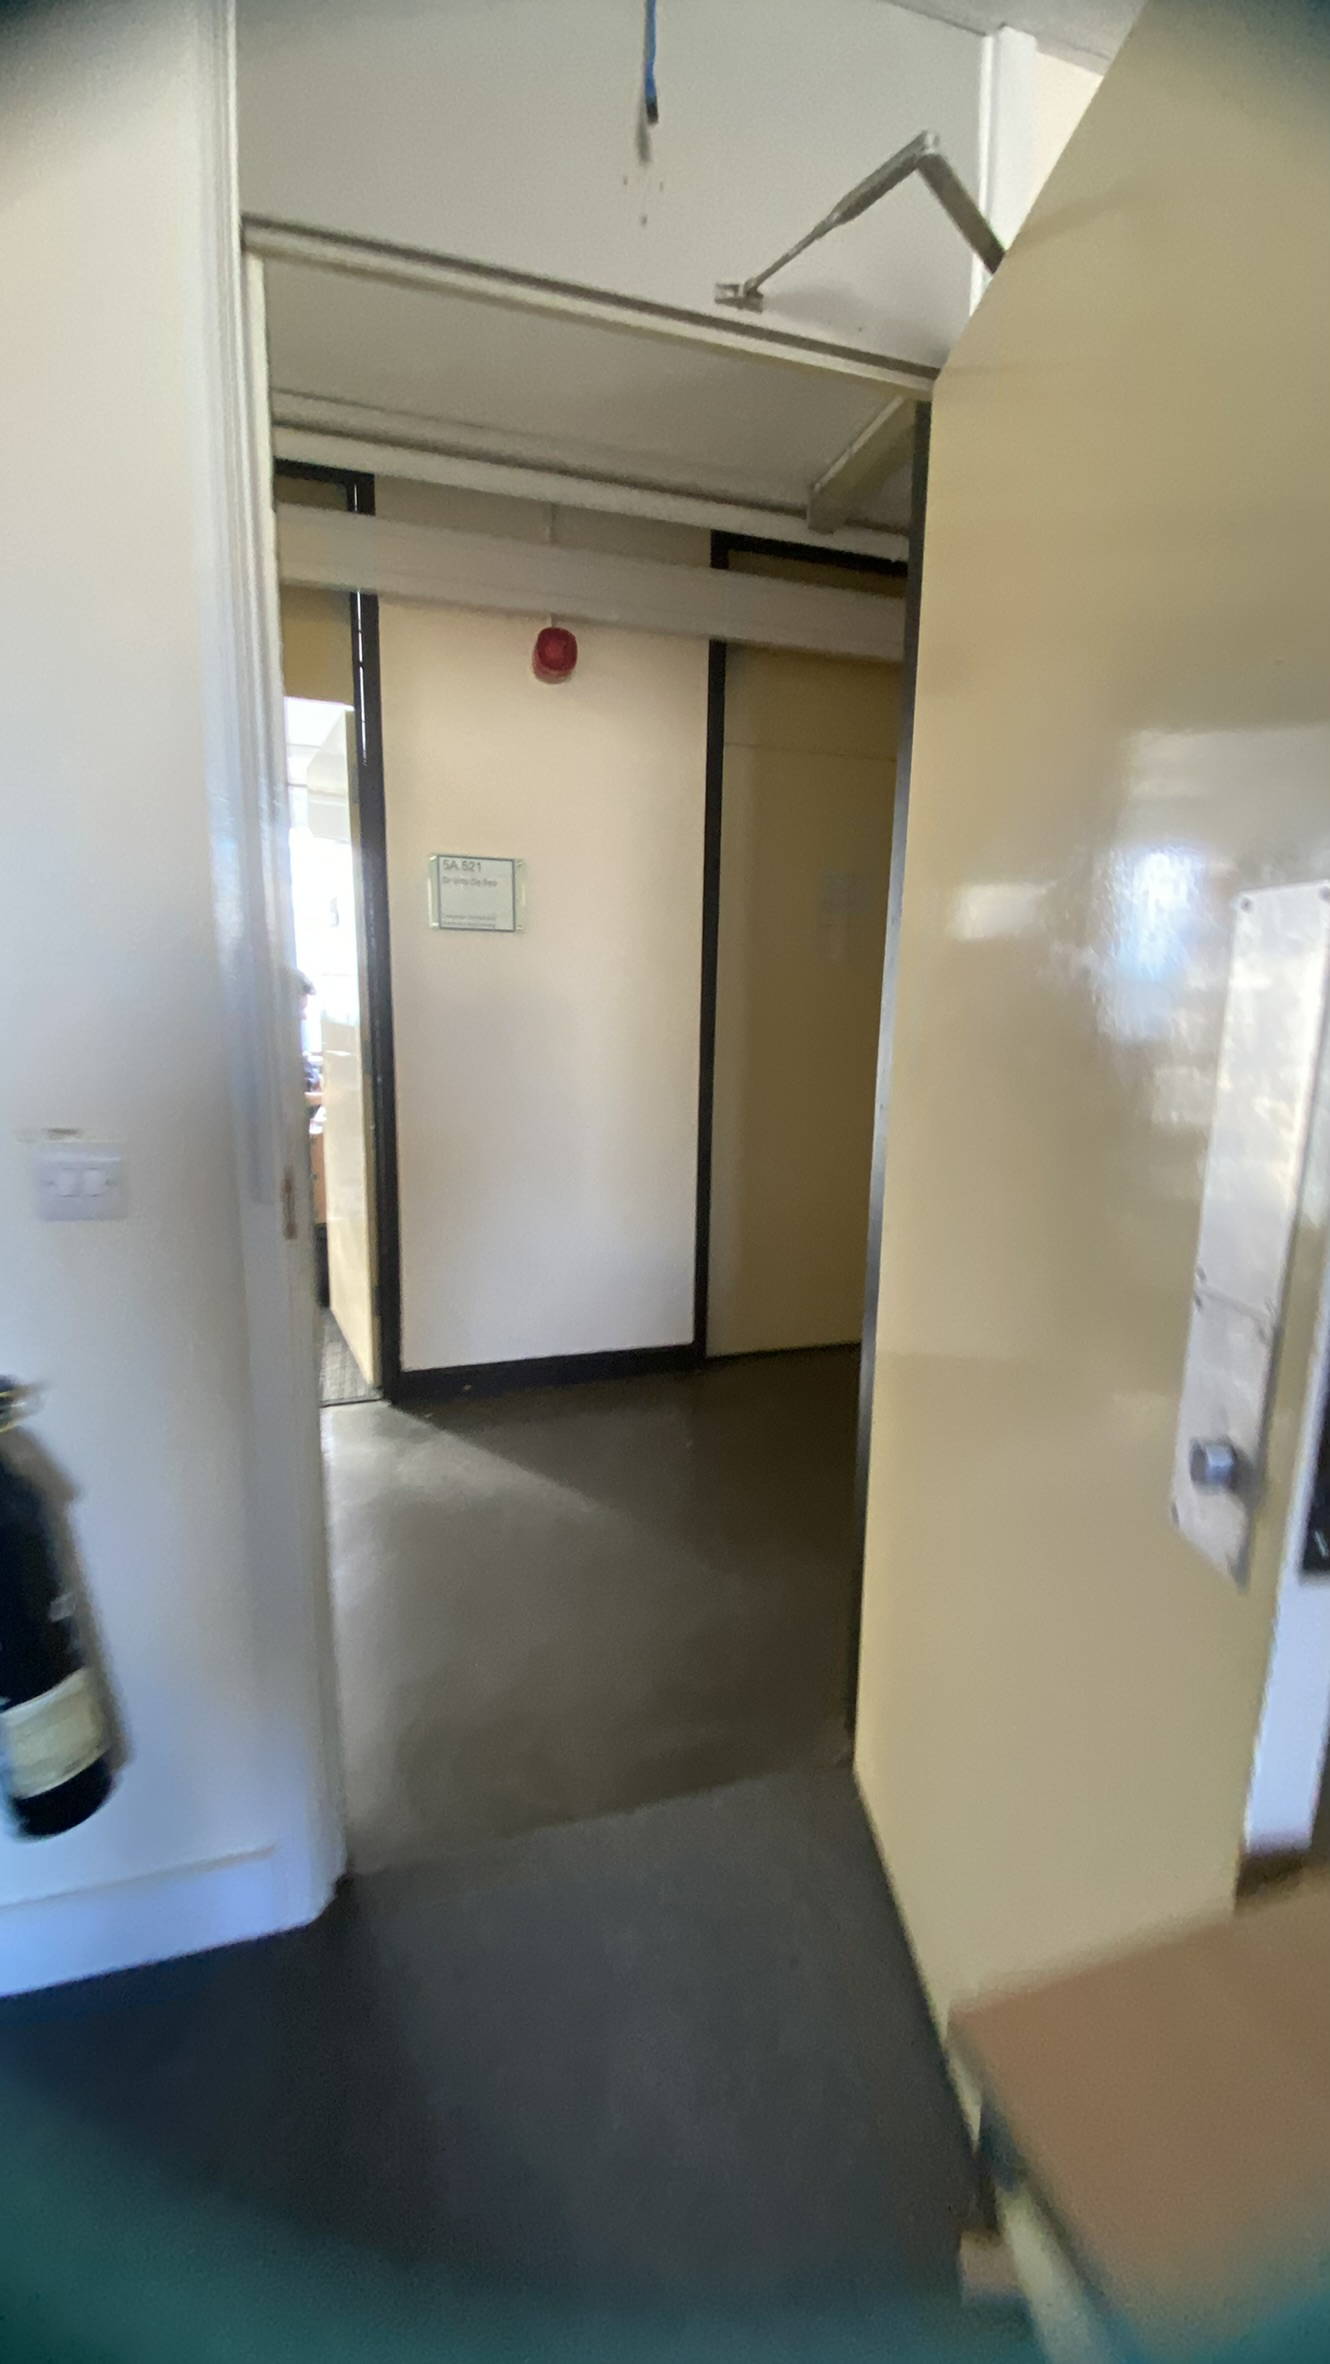door: (232, 231, 929, 1905)
